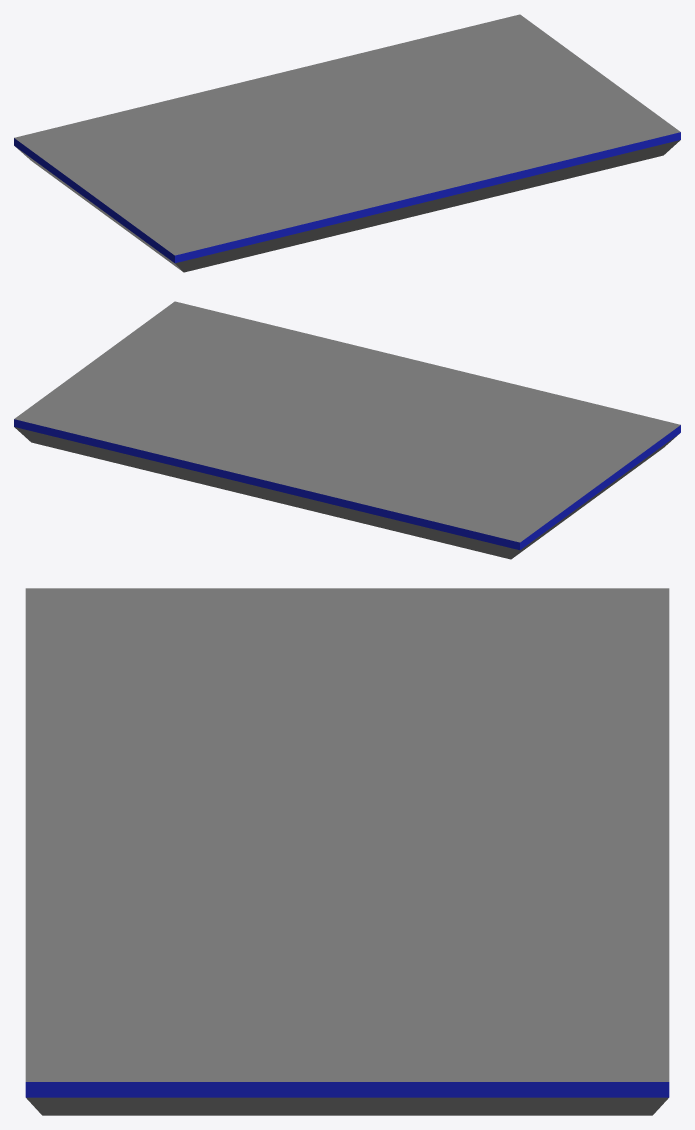
File: light_off.gltf
3 views of the same model, one above another, from view 1: azimuth 30°, elevation 25°; view 2: azimuth 150°, elevation 25°; view 3: azimuth 270°, elevation 25° (orthographic). The views are drawn at different scales.
Parts seen in each view (by area): view 1: Plane.009; view 2: Plane.009; view 3: Plane.009.
Part boxes in pixels (<box>): Plane.009: <box>14,14,680,272</box>; Plane.009: <box>14,301,680,559</box>; Plane.009: <box>25,588,669,1115</box>.
Bounding box in the file's own units: 1.78 × 0.0782 × 0.98.
